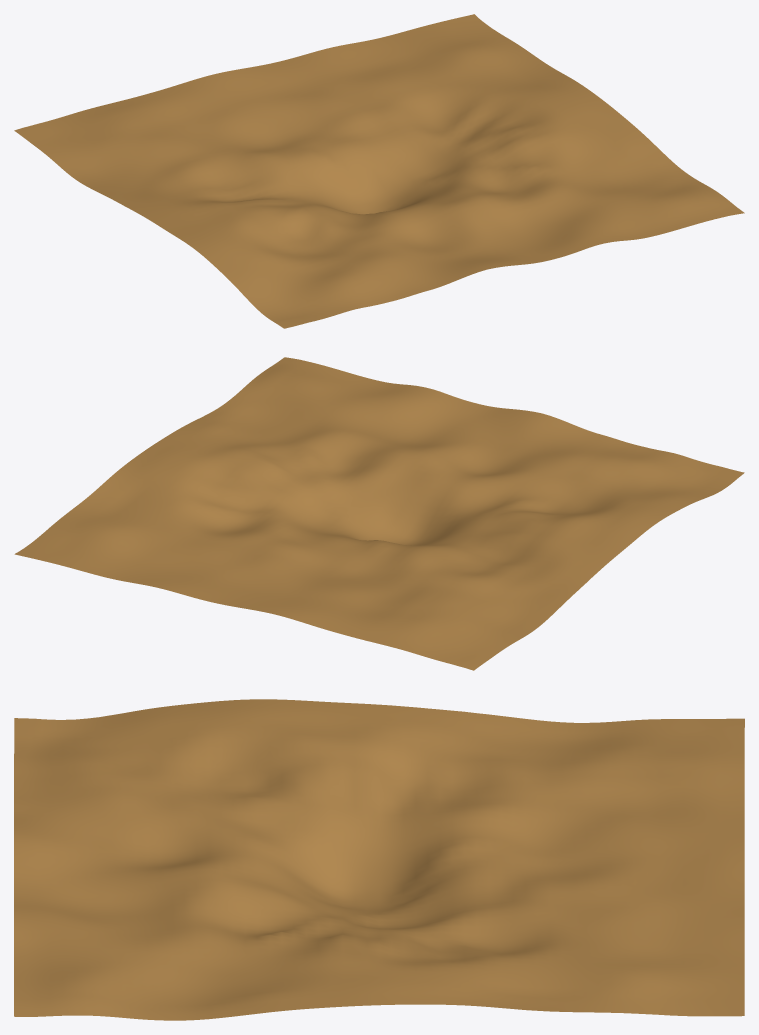
Rendered from terre_bosse_neg3.fbx.
3 views of the same model, one above another, from view 1: azimuth 30°, elevation 25°; view 2: azimuth 150°, elevation 25°; view 3: azimuth 270°, elevation 25° (orthographic). The views are drawn at different scales.
Parts seen in each view (by area): view 1: terre_bosse_neg3; view 2: terre_bosse_neg3; view 3: terre_bosse_neg3.
Boxes of the visible parts, box(x1,y1,x2,y2) form: terre_bosse_neg3: box(14, 14, 744, 328); terre_bosse_neg3: box(14, 357, 744, 670); terre_bosse_neg3: box(14, 699, 744, 1020).
Bounding box in the file's own units: 708 × 65.61 × 721.
